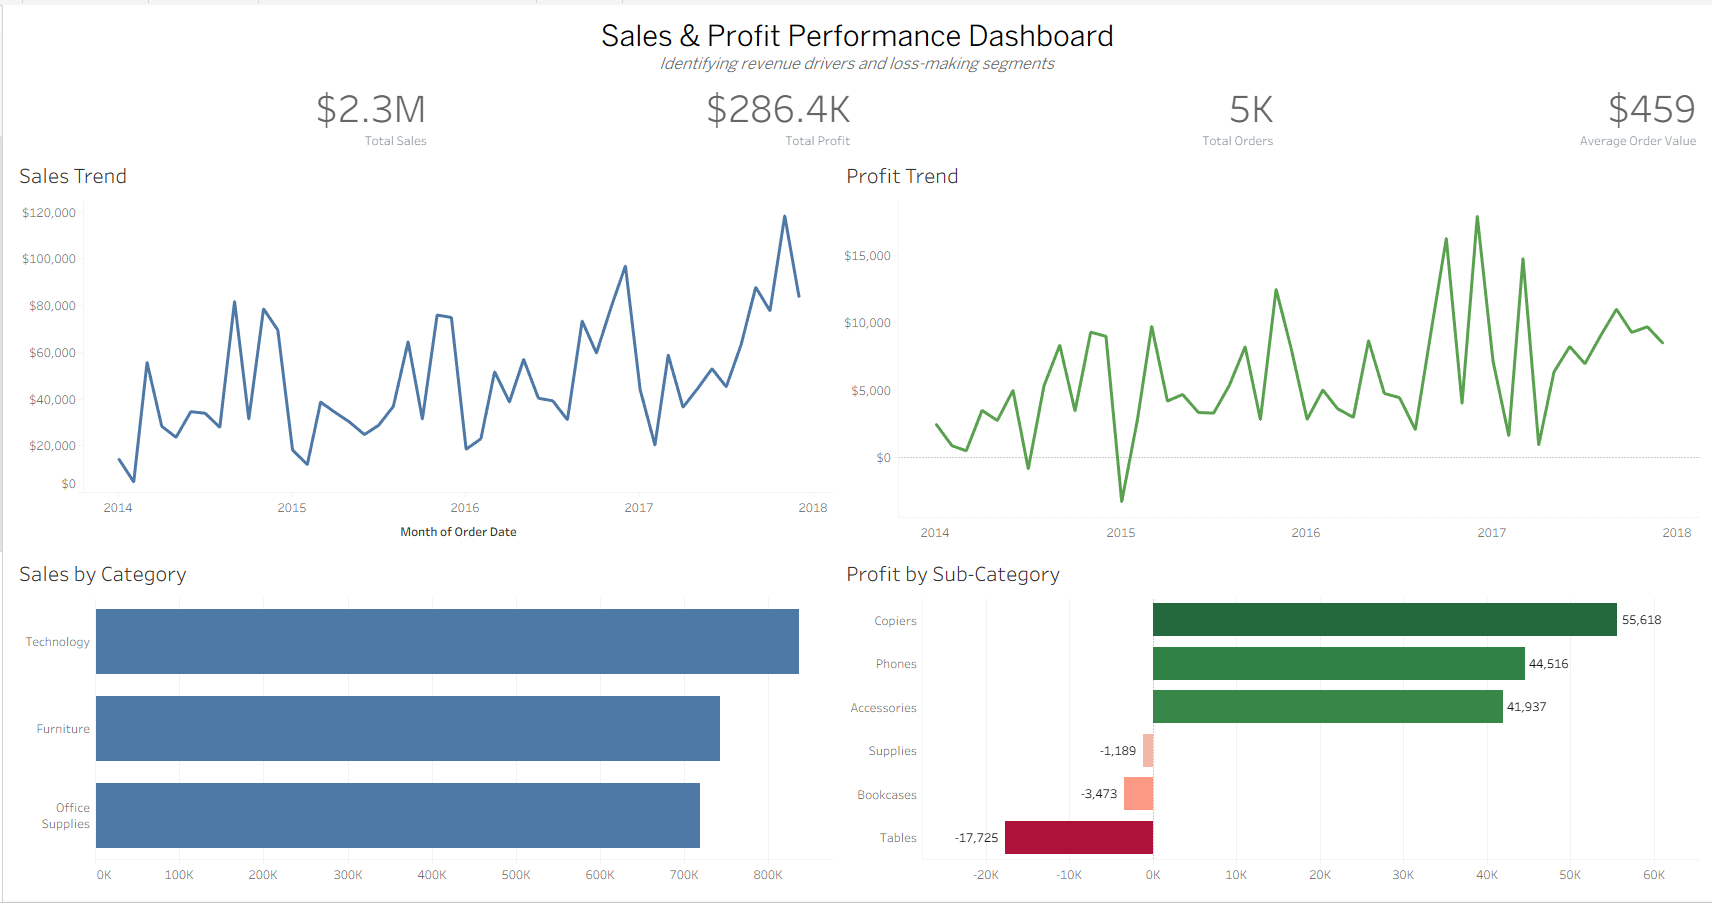

This screenshot's page, from the dashboard's own definition file:
{"tool":"tableau","page":{"name":"Dashboard 1","canvas":[1709,896],"ordinal":0},"visuals":[{"type":"text","box":[8,8,1693,65]},{"type":"worksheet","title":"Sales","mark":"Automatic","box":[8,73,424,75]},{"type":"worksheet","title":"Profit","mark":"Automatic","box":[432,73,423,75]},{"type":"worksheet","title":"Orders","mark":"Automatic","box":[855,73,423,75]},{"type":"worksheet","title":"Avg. Order Value","mark":"Automatic","box":[1278,73,423,75]},{"type":"worksheet","title":"Sales/Time","mark":"Line","rows":["Sales"],"cols":["Order Date"],"box":[8,148,827,398]},{"type":"worksheet","title":"Profit/Time","mark":"Automatic","rows":["Profit"],"cols":["Order Date"],"box":[835,148,866,398]},{"type":"worksheet","title":"Sales by Cat","mark":"Automatic","rows":["Category"],"cols":["Sales"],"box":[8,546,827,342]},{"type":"worksheet","title":"Prof/SubCat","mark":"Automatic","rows":["Sub-Category"],"cols":["Profit"],"box":[835,546,866,342]}]}

Visuals, with their boxes in screenshot pixels (x1, y1, x2, y2), scaled from the page's 1709x896 canvas onto the 1712x903 screenshot:
text: {"x1": 8, "y1": 8, "x2": 1704, "y2": 74}
"Sales" worksheet: {"x1": 8, "y1": 74, "x2": 433, "y2": 149}
"Profit" worksheet: {"x1": 433, "y1": 74, "x2": 857, "y2": 149}
"Orders" worksheet: {"x1": 857, "y1": 74, "x2": 1280, "y2": 149}
"Avg. Order Value" worksheet: {"x1": 1280, "y1": 74, "x2": 1704, "y2": 149}
"Sales/Time" worksheet (Line marks): {"x1": 8, "y1": 149, "x2": 836, "y2": 550}
"Profit/Time" worksheet: {"x1": 836, "y1": 149, "x2": 1704, "y2": 550}
"Sales by Cat" worksheet: {"x1": 8, "y1": 550, "x2": 836, "y2": 895}
"Prof/SubCat" worksheet: {"x1": 836, "y1": 550, "x2": 1704, "y2": 895}
